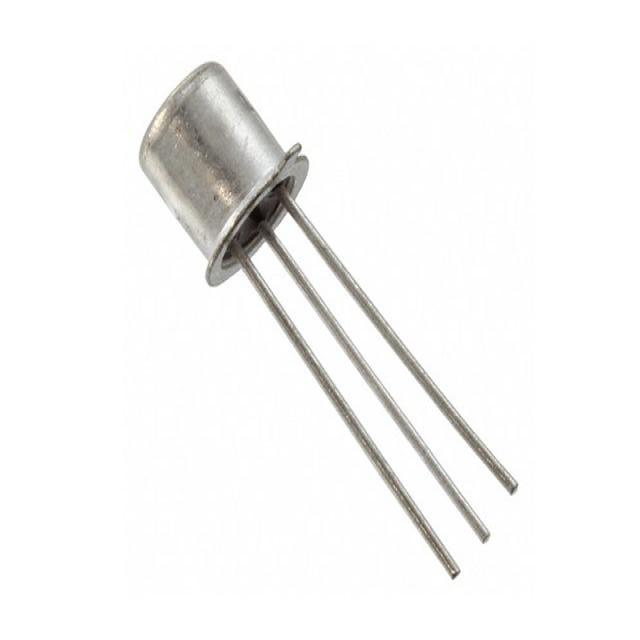Transistor: (128, 51, 481, 542)
